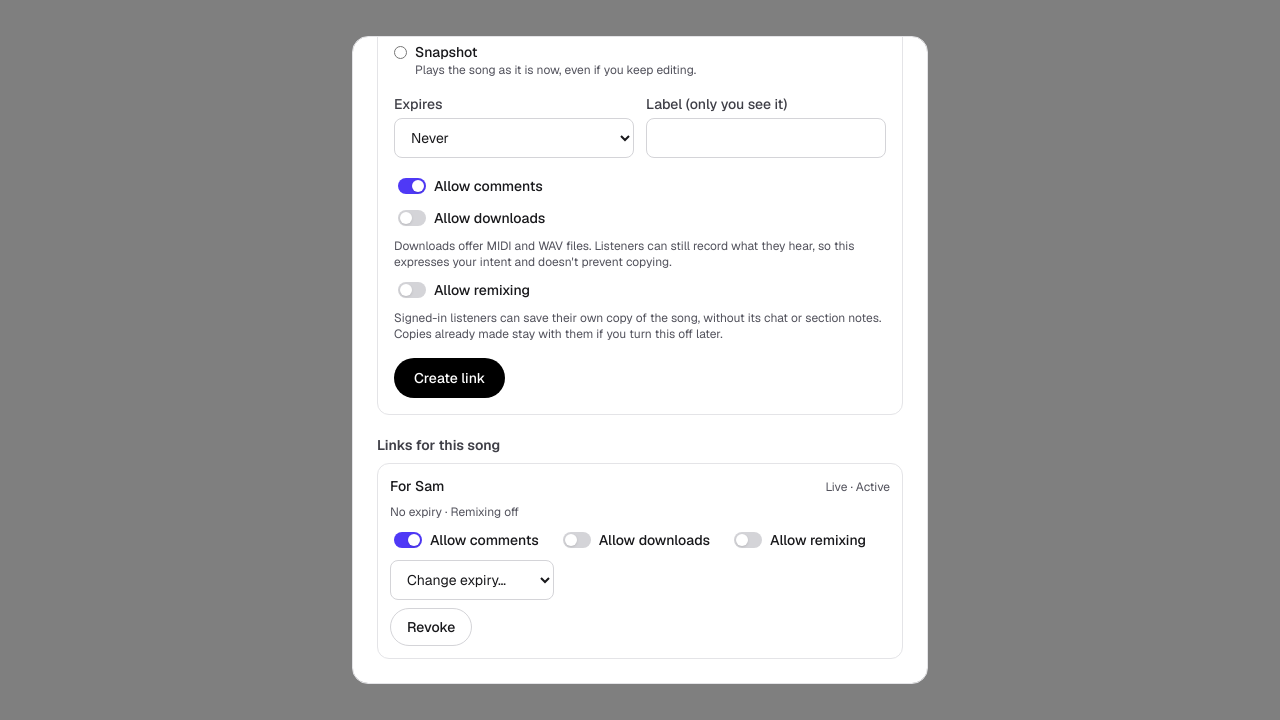
it: Share dialog › revokes only after confirming, then shows the link as revoked
(page scrolled)
Click the button "Revoke": (431, 627) [390,608,472,646]
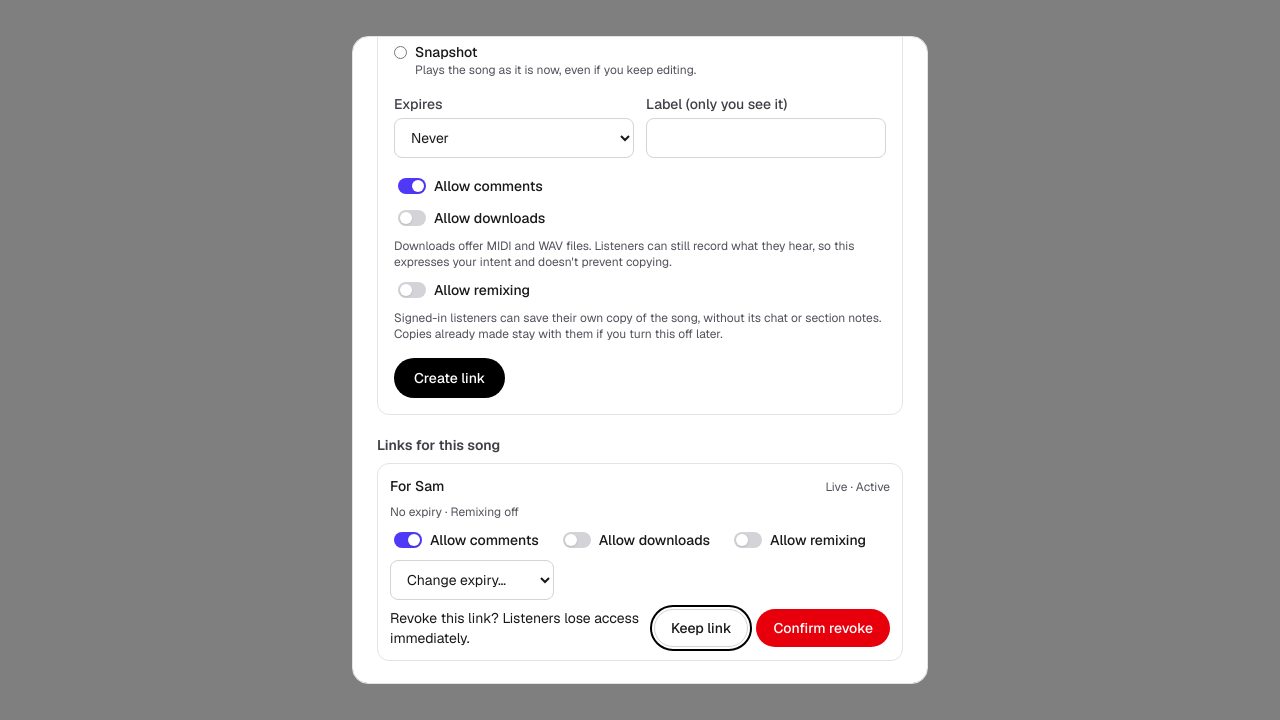
Click the button "Confirm revoke": (823, 628) [756,609,890,647]
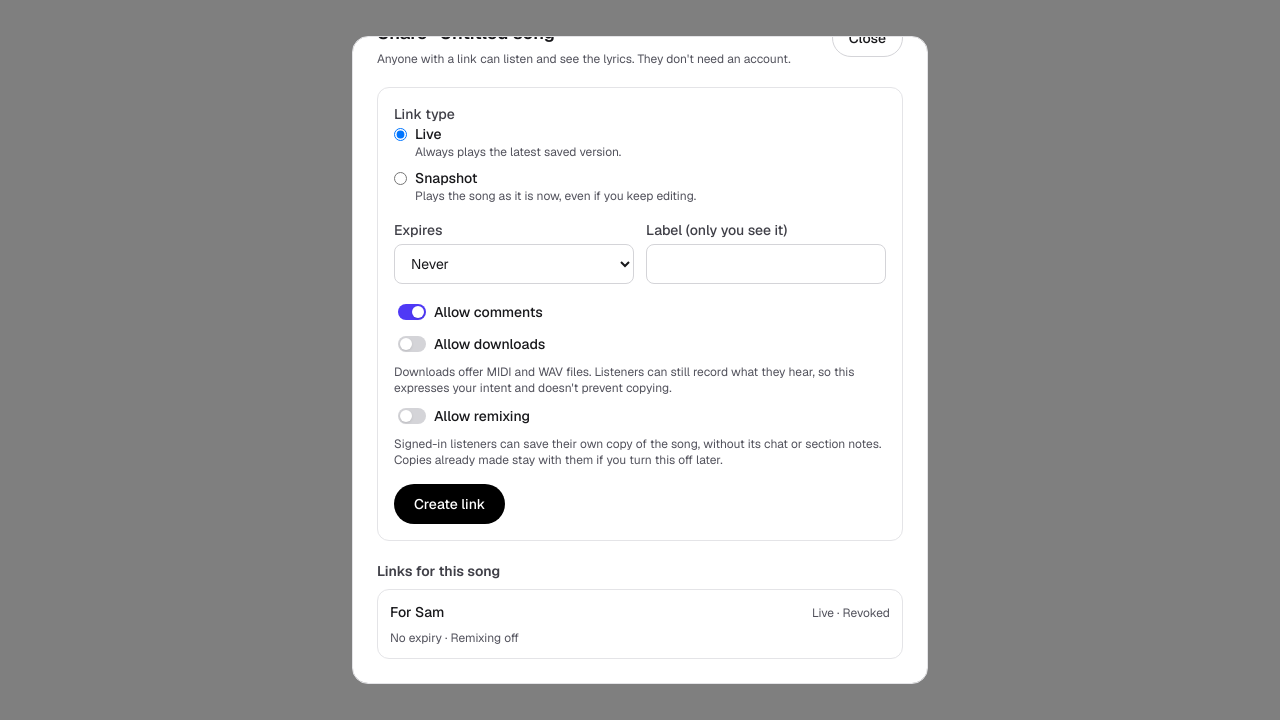
Result: the list item "For Sam" shows "Revoked" at [842,605,890,621]
